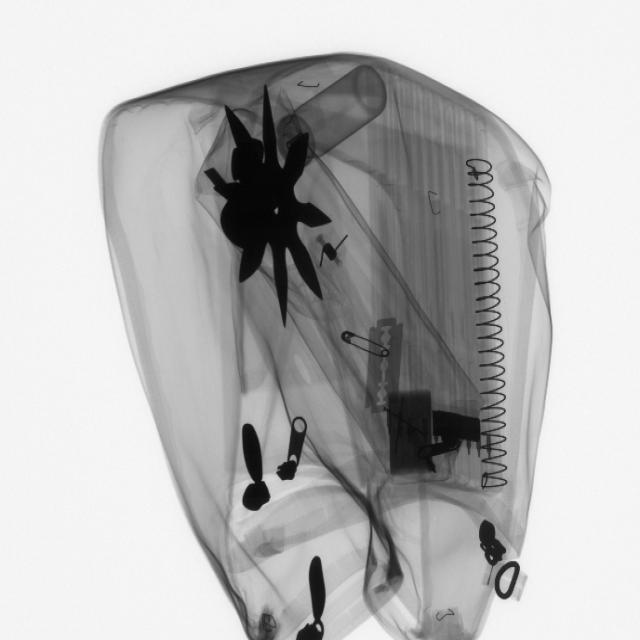BLADE: (360, 310, 412, 425)
SHURIKEN: (206, 81, 327, 328)
